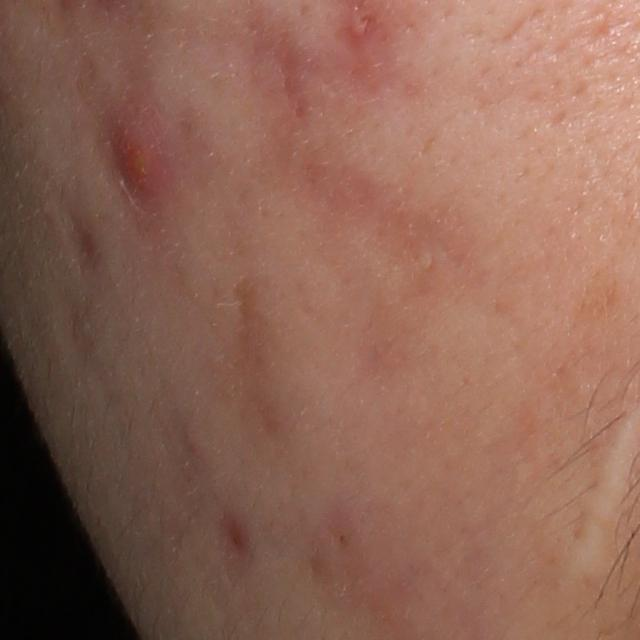atrophic_scar: (232, 281, 268, 370), (58, 198, 100, 272), (275, 37, 312, 119)
papule: (107, 120, 172, 208)
